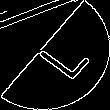L_NW: (23, 27, 87, 83)
